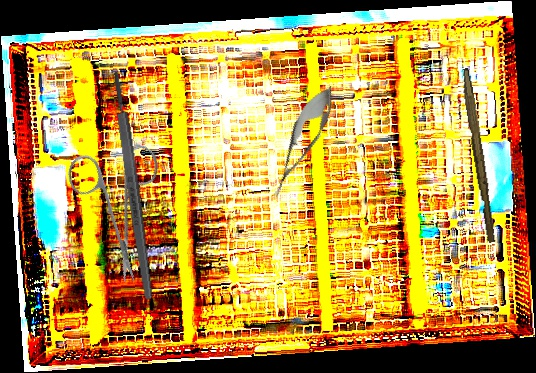Iris Scissors: (33, 117, 203, 286)
Micro Scissor: (261, 78, 344, 204)
Scalpel Handle: (109, 69, 156, 302), (456, 67, 500, 244)
